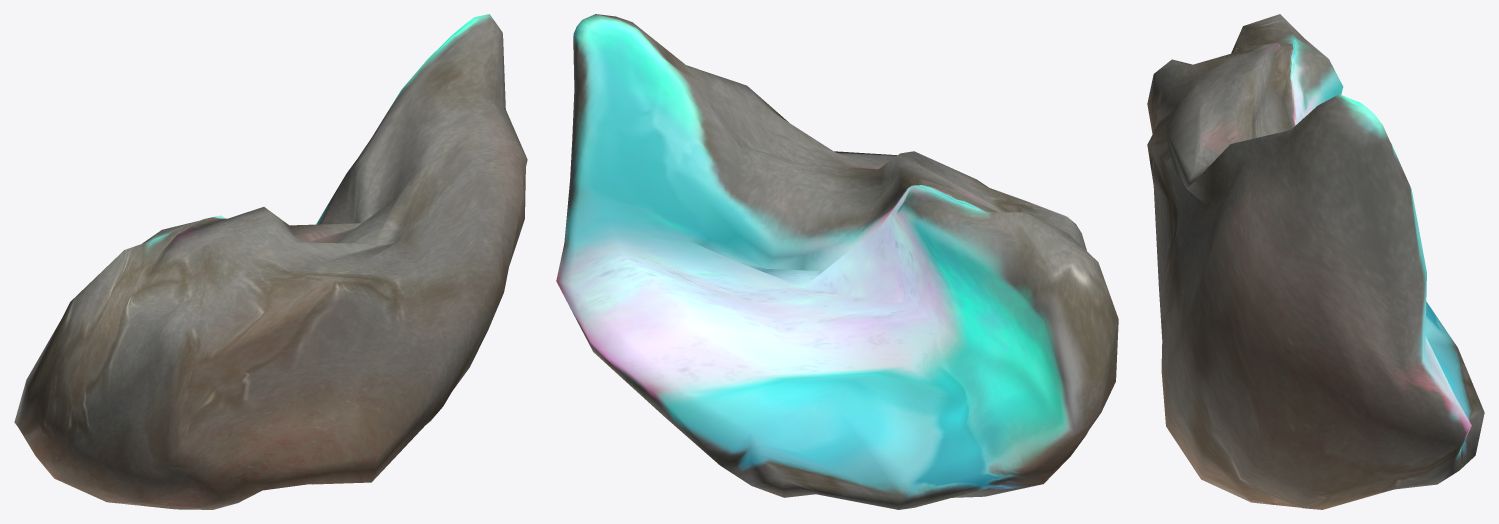
The model's file is Shard (mod).fbx.
3 renders of one model, left to right at view 1: azimuth 30°, elevation 25°; view 2: azimuth 150°, elevation 25°; view 3: azimuth 270°, elevation 25°, orthographic. The views are drawn at different scales.
Parts seen in each view (by area): view 1: defaultMaterial; view 2: defaultMaterial; view 3: defaultMaterial.
Part boxes in pixels (x1,y1,x2,y2): defaultMaterial: (14, 14, 527, 509); defaultMaterial: (556, 14, 1118, 509); defaultMaterial: (1147, 14, 1484, 509).
Bounding box in the file's own units: 170 × 78.67 × 130.
